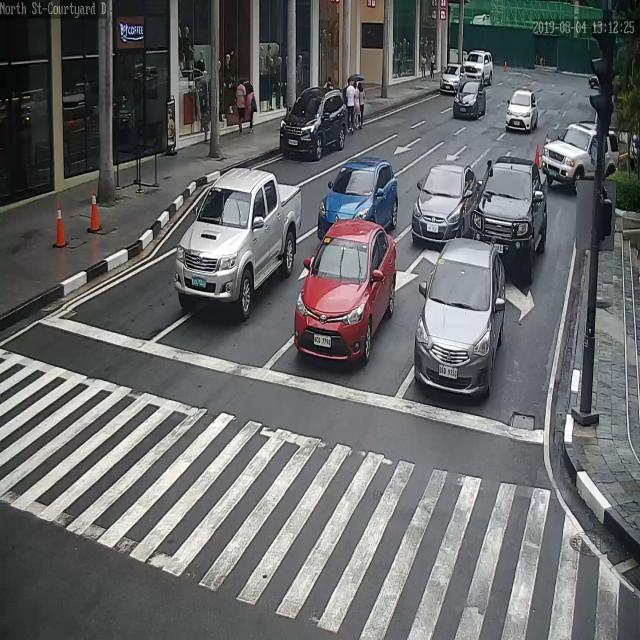car: (176, 166, 301, 316), (293, 219, 399, 366), (413, 239, 506, 392), (470, 155, 548, 275), (318, 158, 397, 236), (411, 164, 477, 246), (278, 87, 351, 161), (541, 123, 618, 189), (505, 89, 539, 133), (452, 80, 486, 118), (465, 48, 495, 83), (440, 63, 472, 93)
